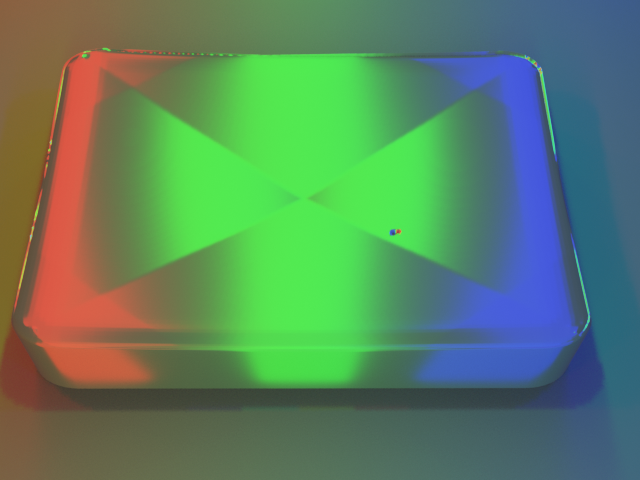dent: (385, 218, 419, 259)
smash: (0, 0, 639, 479)
